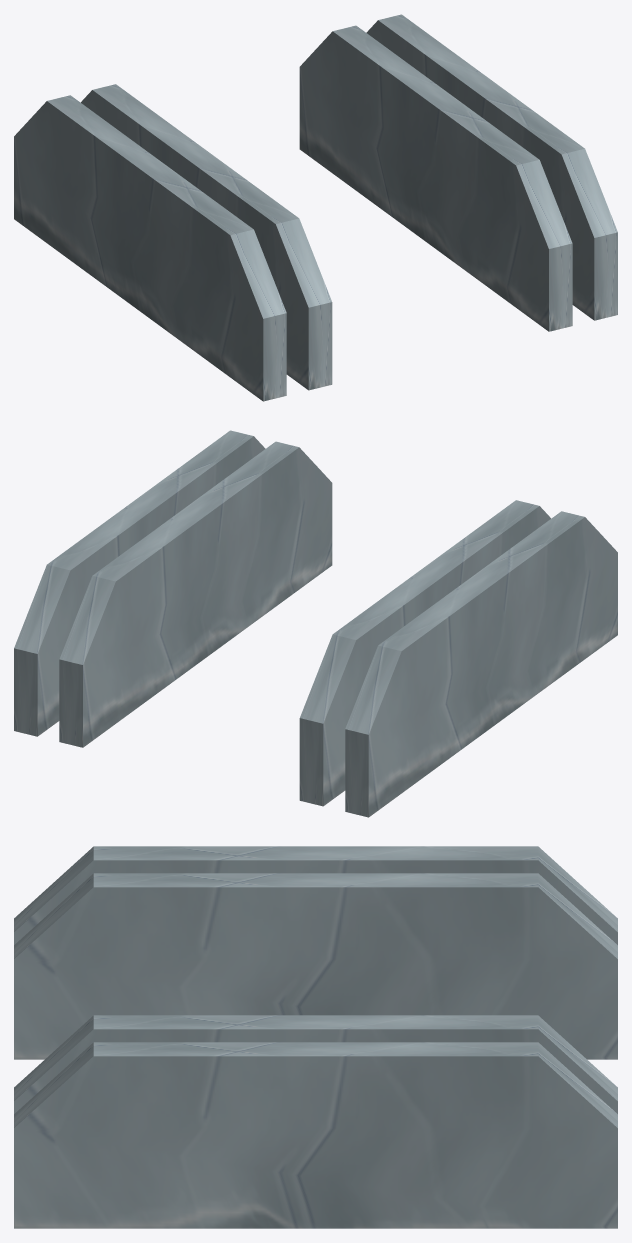
The model's file is model_storgeneratoremitters_v2_02.FBX.
The picture shows the model from 3 angles, top to bottom: view 1: azimuth 30°, elevation 25°; view 2: azimuth 150°, elevation 25°; view 3: azimuth 270°, elevation 25°; orthographic projection. The views are drawn at different scales.
Parts seen in each view (by area): view 1: Object001; view 2: Object001; view 3: Object001.
Boxes of the visible parts, x1,y1,x2,y2 form: Object001: (14, 14, 617, 401); Object001: (14, 430, 617, 817); Object001: (14, 846, 617, 1228).
Bounding box in the file's own units: 1154 × 442 × 1404.
